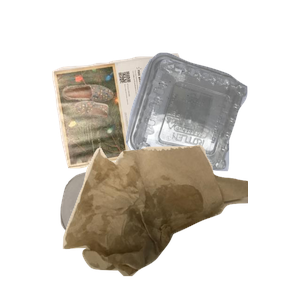glass: (58, 170, 202, 300)
paper: (49, 51, 235, 212)
plastic: (123, 50, 300, 214)
trash: (60, 142, 300, 300)
